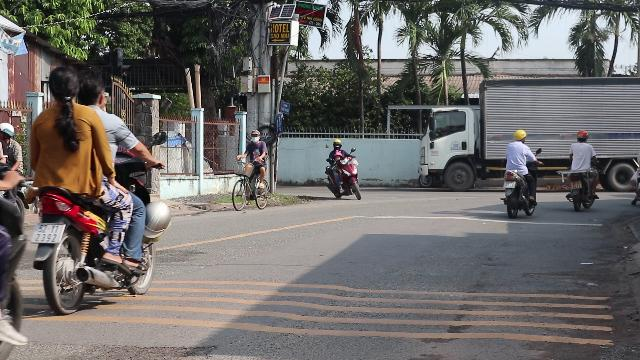licenseplate: (31, 223, 65, 243)
motorcyclist: (20, 66, 174, 314)
nohelmet: (45, 64, 81, 103), (75, 66, 107, 109)
